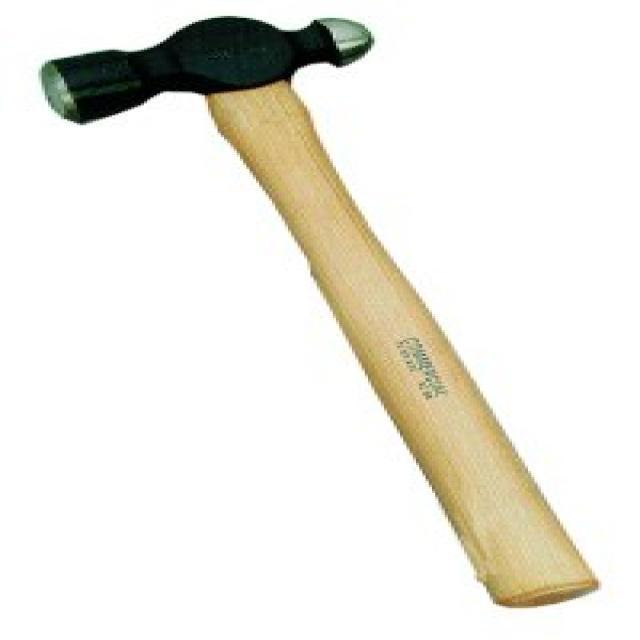hammer: (28, 8, 629, 608)
